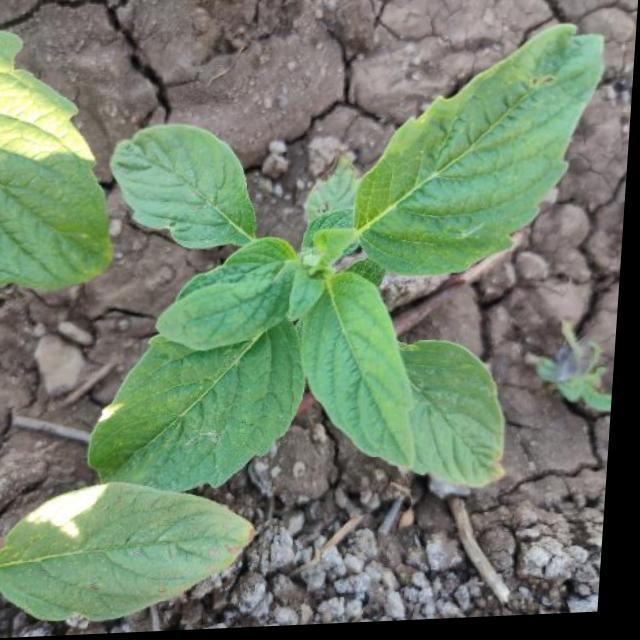crop: (70, 12, 582, 520)
